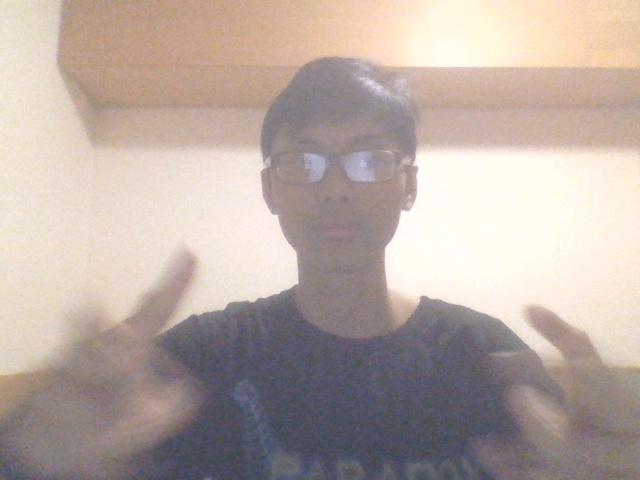human: (9, 56, 601, 480)
